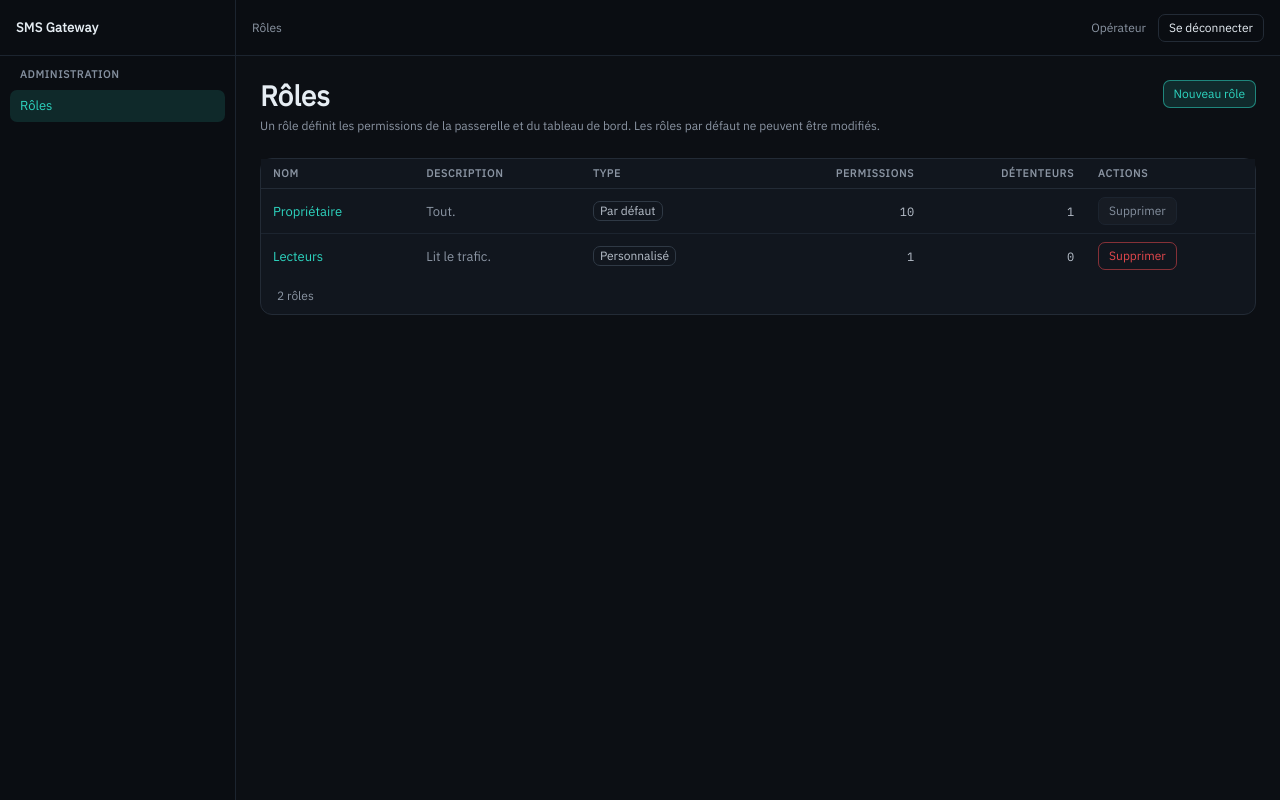
Test: a role nobody holds is deleted from the list after a confirmation, and the focus goes to the title
The image size is (1280, 800).
Expected: the column heading "Lecteurs" is shown, [261,234,414,278]
Click the button "Supprimer" in the row of "Lit le trafic." at (1137, 256), box [1098,242,1177,270]
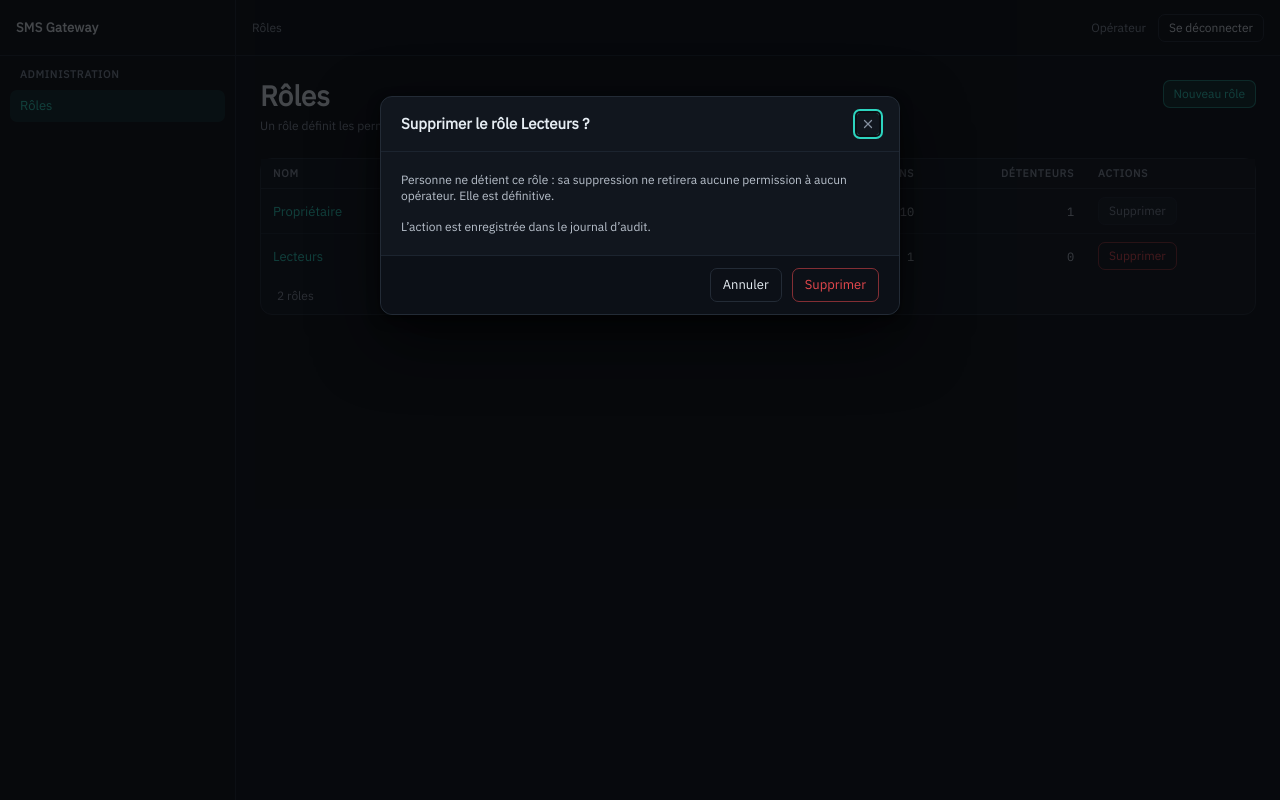
Expected: the dialog "Supprimer le rôle Lecteurs ?" shows "sa suppression ne retirera aucune permission", [401,172,847,203]
Expected: the dialog "Supprimer le rôle Lecteurs ?" shows "L’action est enregistrée dans le journal d’audit.", [401,219,651,234]
Click the button "Supprimer" at (835, 285), box [792,268,879,302]
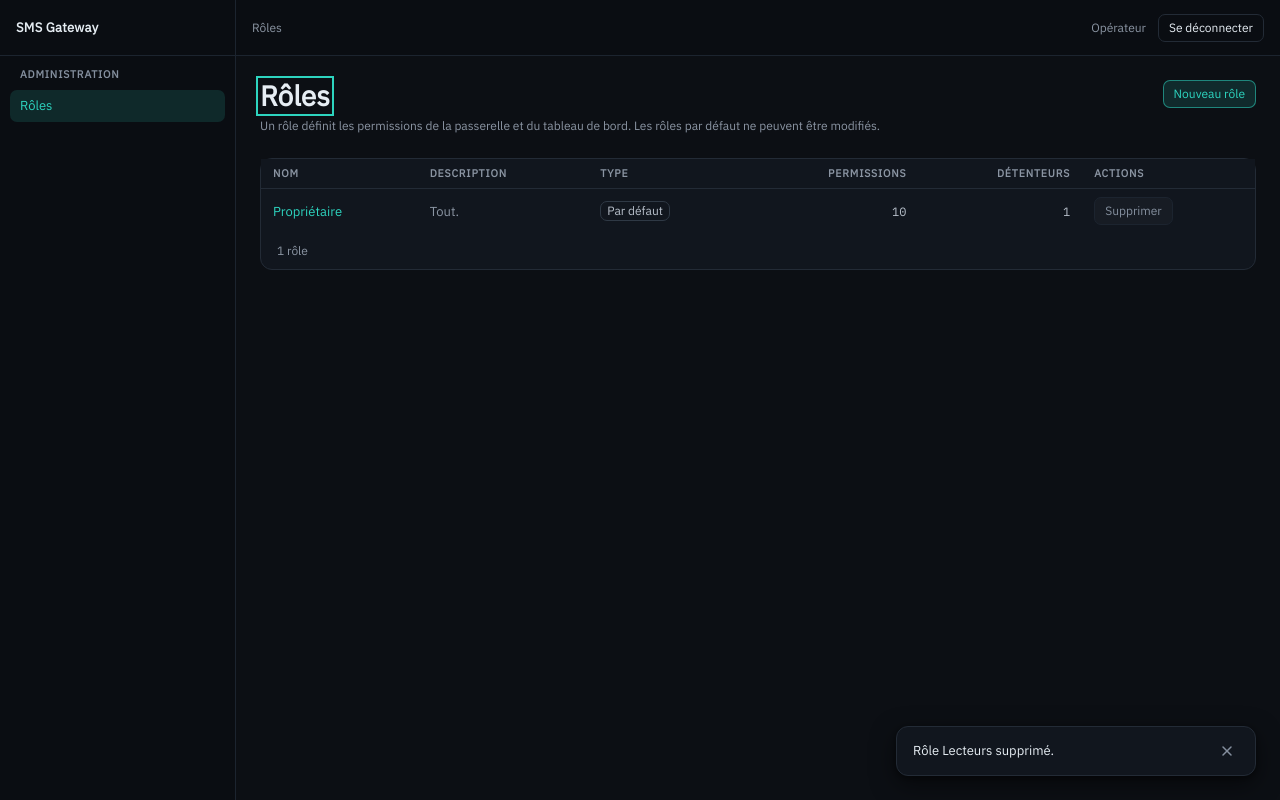
Expected: the element with class "ui-toast" is shown, [896,726,1256,776]
